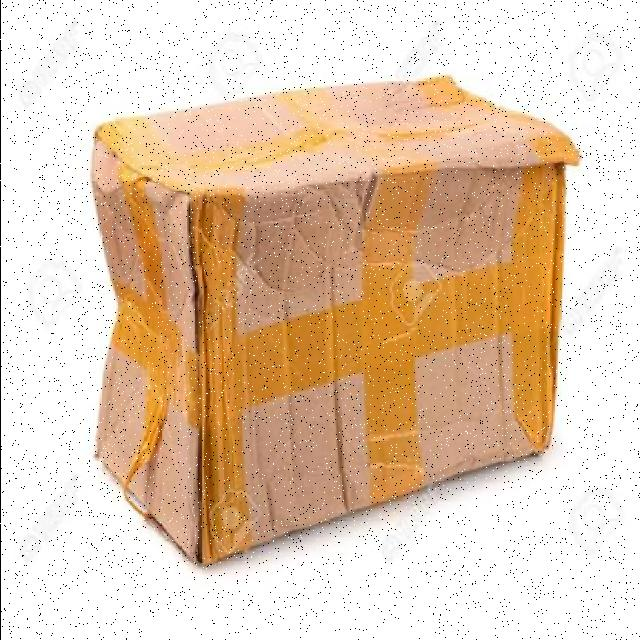defect: (90, 74, 572, 562)
